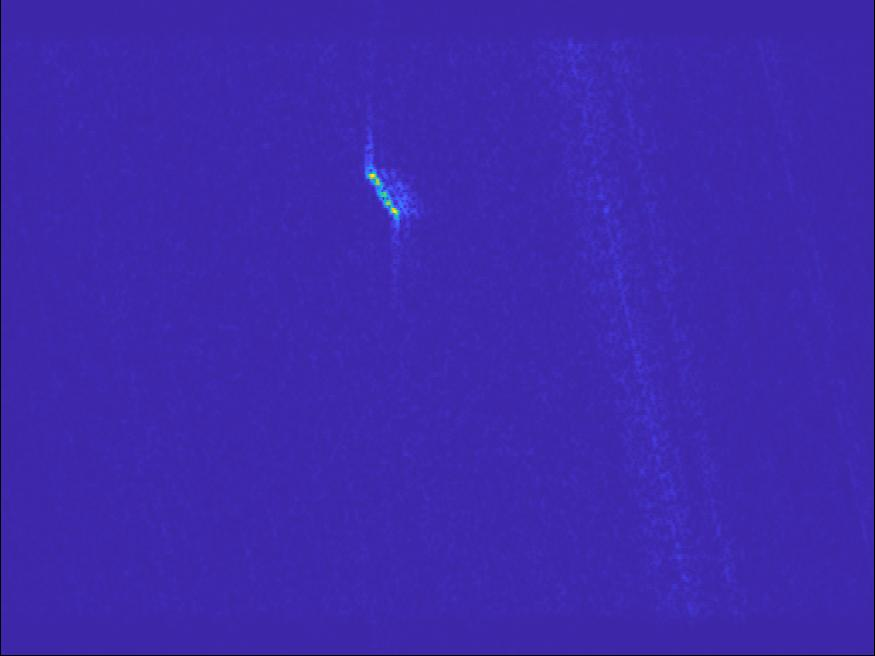Interference: (213, 127, 426, 288), (562, 281, 768, 367), (138, 298, 241, 349)
